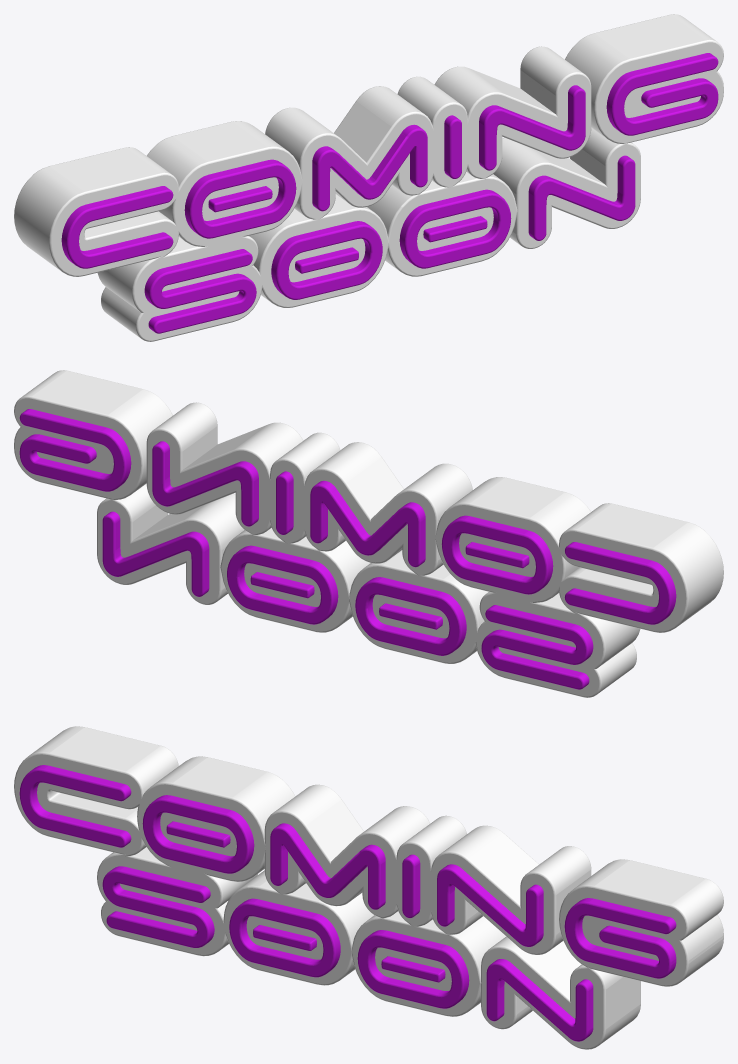
The model's file is metaverse-draco.glb.
3 views of the same model, one above another, from view 1: azimuth 30°, elevation 25°; view 2: azimuth 150°, elevation 25°; view 3: azimuth 330°, elevation 25° (orthographic).
Visible parts, largest first — view 1: Extrude, Extrude_1; view 2: Extrude, Extrude_1; view 3: Extrude, Extrude_1.
Part boxes in pixels (<box>): Extrude: <box>14,14,723,341</box>; Extrude_1: <box>61,53,718,333</box>; Extrude: <box>14,370,723,697</box>; Extrude_1: <box>19,409,676,689</box>; Extrude: <box>14,726,723,1049</box>; Extrude_1: <box>19,765,676,1041</box>.
Size of the model in its own units: 0.3345 by 0.0788 by 0.0416.
